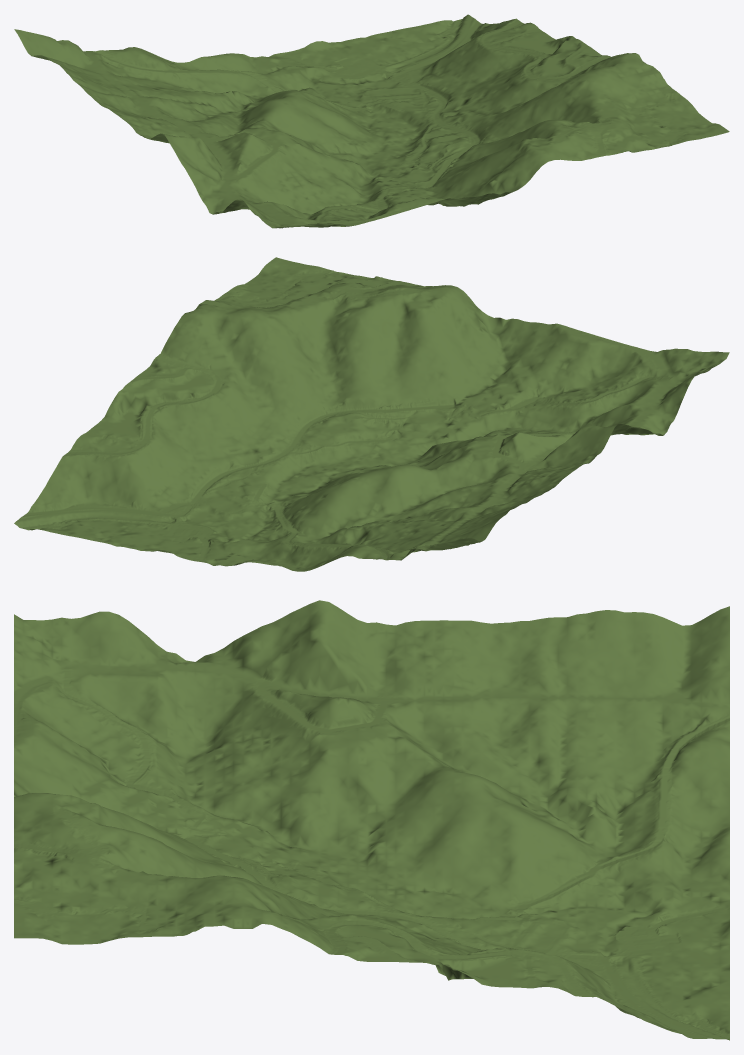
Rendered from terrain_2_0.glb.
The picture shows the model from 3 angles, top to bottom: view 1: azimuth 30°, elevation 25°; view 2: azimuth 150°, elevation 25°; view 3: azimuth 270°, elevation 25°; orthographic projection. The views are drawn at different scales.
Visible parts, largest first — view 1: terrain_2_0; view 2: terrain_2_0; view 3: terrain_2_0.
Boxes of the visible parts, x1,y1,x2,y2 form: terrain_2_0: (14, 14, 729, 228); terrain_2_0: (14, 257, 729, 571); terrain_2_0: (14, 600, 729, 1040).
Bounding box in the file's own units: 600 × 132 × 600.
